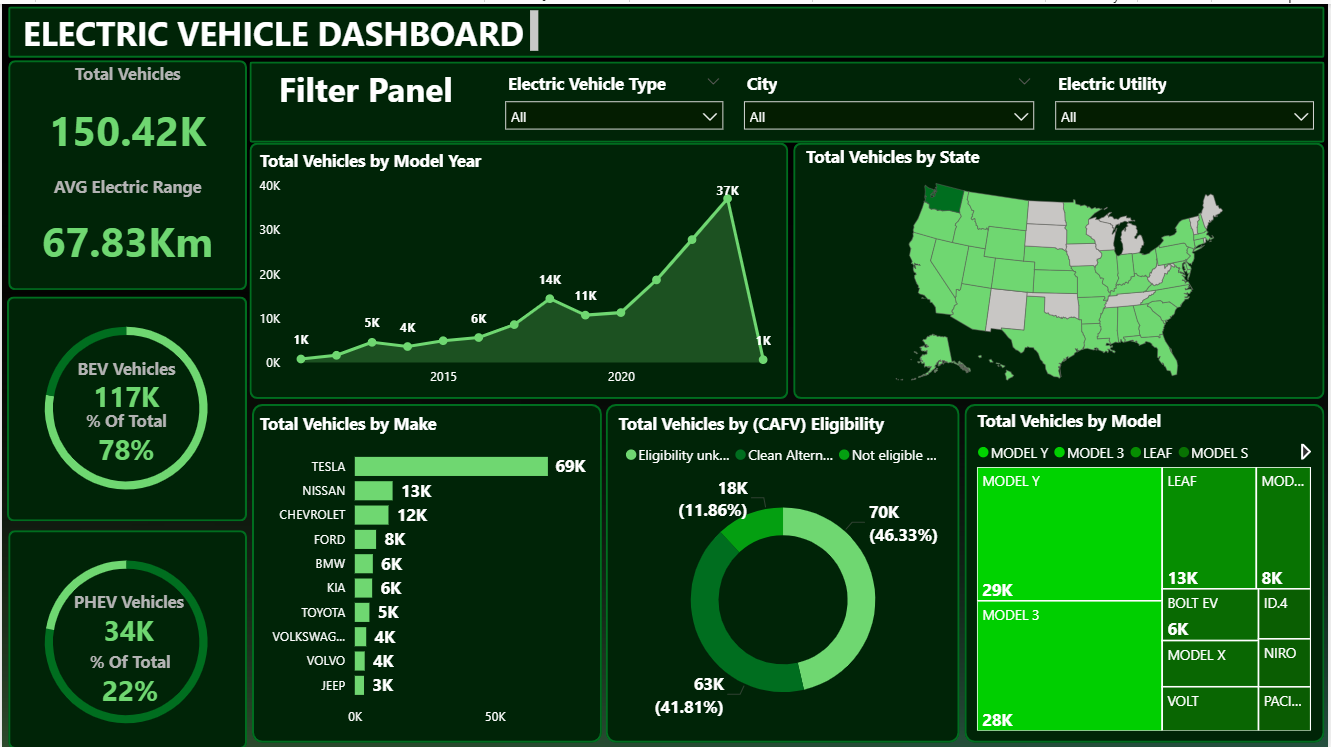

This screenshot's page, from the dashboard's own definition file:
{"tool":"powerbi","page":{"name":"Page 1","canvas":[1280,720],"ordinal":0},"visuals":[{"type":"shape","box":[238.9,133.9,520,247.3],"z":0},{"type":"shape","box":[6,2.4,1270.4,49.5],"z":1000},{"type":"textbox","box":[9.7,1.2,512.7,50.7],"z":2000},{"type":"shape","box":[6,54.3,230.4,222],"z":3000},{"type":"card","title":"Total Vehicles","fields":{"Values":["Electric_Vehicle_Population_Data.Total Vehicles"]},"box":[12.1,55.5,218.4,109.8],"z":4000},{"type":"card","title":"AVG Electric Range","fields":{"Values":["Electric_Vehicle_Population_Data.AVG Range"]},"box":[12.1,165.3,218.4,105],"z":5000},{"type":"shape","box":[4.8,282.3,231.6,217.2],"z":6000},{"type":"shape","box":[6,507.9,230.4,211.1],"z":7000},{"type":"donutChart","fields":{"Category":["Electric_Vehicle_Population_Data.Electric Vehicle Type"],"Y":["Electric_Vehicle_Population_Data.Total Vehicles"]},"box":[9.7,287.1,220.8,206.3],"z":8000},{"type":"card","title":"BEV Vehicles","fields":{"Values":["Electric_Vehicle_Population_Data.BEV Vehicles"]},"box":[59.1,340.2,121.9,57.9],"z":9000},{"type":"card","title":"% Of Total","fields":{"Values":["Electric_Vehicle_Population_Data.% of BEV"]},"box":[59.1,390.9,121.9,57.9],"z":10000},{"type":"donutChart","fields":{"Category":["Electric_Vehicle_Population_Data.Electric Vehicle Type"],"Y":["Electric_Vehicle_Population_Data.Total Vehicles"]},"box":[9.7,512.7,220.8,206.3],"z":11000},{"type":"card","title":"PHEV Vehicles","fields":{"Values":["Electric_Vehicle_Population_Data.PHEV Vehicles"]},"box":[61.5,565.8,121.9,57.9],"z":12000},{"type":"card","title":"% Of Total","fields":{"Values":["Electric_Vehicle_Population_Data.% of PHEV"]},"box":[62.7,623.7,121.9,57.9],"z":13000},{"type":"areaChart","fields":{"Y":["Electric_Vehicle_Population_Data.Total Vehicles"],"Category":["Electric_Vehicle_Population_Data.Model Year"]},"box":[243.7,139.9,509.1,237.7],"z":14000},{"type":"shape","box":[238.9,55.5,1037.5,78.4],"z":15000},{"type":"shape","box":[763.7,133.9,512.7,247.3],"z":16000},{"type":"shapeMap","fields":{"Category":["Electric_Vehicle_Population_Data.State"],"Value":["Electric_Vehicle_Population_Data.Total Vehicles"]},"box":[770.9,136.3,499.5,242.5],"z":17000},{"type":"shape","box":[241.3,386.1,337.8,326.9],"z":18000},{"type":"barChart","fields":{"Category":["Electric_Vehicle_Population_Data.Make"],"Y":["Electric_Vehicle_Population_Data.Total Vehicles"]},"box":[243.7,393.3,334.2,312.5],"z":19000},{"type":"shape","box":[582.7,386.1,341.4,326.9],"z":20000},{"type":"donutChart","title":"Total Vehicles by (CAFV) Eligibility","fields":{"Category":["Electric_Vehicle_Population_Data.Clean Alternative Fuel Vehicle (CAFV) Eligibility"],"Y":["Electric_Vehicle_Population_Data.Total Vehicles"]},"box":[589.9,393.3,328.2,312.5],"z":21000},{"type":"shape","box":[929,386.1,347.5,326.9],"z":22000},{"type":"treemap","fields":{"Group":["Electric_Vehicle_Population_Data.Model"],"Values":["Electric_Vehicle_Population_Data.Total Vehicles"]},"box":[935.9,391.1,332.1,315.6],"z":23000},{"type":"textbox","box":[243.7,55.5,214.7,78.4],"z":24000},{"type":"slicer","fields":{"Values":["Electric_Vehicle_Population_Data.City"]},"box":[705.8,60.3,300.4,67.6],"z":24001},{"type":"slicer","fields":{"Values":["Electric_Vehicle_Population_Data.Electric Utility"]},"box":[1006.2,60.3,270.2,67.6],"z":24002},{"type":"slicer","fields":{"Values":["Electric_Vehicle_Population_Data.Electric Vehicle Type"]},"box":[475.3,60.3,230.4,67.6],"z":24003}]}

Visuals, with their boxes in screenshot pixels (x1, y1, x2, y2), scaled from the page's 1280x720 canvas onto the 1331x747 screenshot:
shape: (248,139,789,395)
shape: (6,2,1327,54)
textbox: (10,1,543,54)
shape: (6,56,246,287)
"Total Vehicles" card: (13,58,240,171)
"AVG Electric Range" card: (13,171,240,280)
shape: (5,293,246,518)
shape: (6,527,246,746)
donutChart - Electric_Vehicle_Population_Data.Electric Vehicle Type x Electric_Vehicle_Population_Data.Total Vehicles: (10,298,240,512)
"BEV Vehicles" card: (61,353,188,413)
"% Of Total" card: (61,406,188,466)
donutChart - Electric_Vehicle_Population_Data.Electric Vehicle Type x Electric_Vehicle_Population_Data.Total Vehicles: (10,532,240,746)
"PHEV Vehicles" card: (64,587,191,647)
"% Of Total" card: (65,647,192,707)
areaChart - Electric_Vehicle_Population_Data.Total Vehicles x Electric_Vehicle_Population_Data.Model Year: (253,145,783,392)
shape: (248,58,1327,139)
shape: (794,139,1327,395)
shapeMap - Electric_Vehicle_Population_Data.State x Electric_Vehicle_Population_Data.Total Vehicles: (802,141,1321,393)
shape: (251,401,602,740)
barChart - Electric_Vehicle_Population_Data.Make x Electric_Vehicle_Population_Data.Total Vehicles: (253,408,601,732)
shape: (606,401,961,740)
"Total Vehicles by (CAFV) Eligibility" donutChart: (613,408,955,732)
shape: (966,401,1327,740)
treemap - Electric_Vehicle_Population_Data.Model x Electric_Vehicle_Population_Data.Total Vehicles: (973,406,1319,733)
textbox: (253,58,477,139)
slicer - Electric_Vehicle_Population_Data.City: (734,63,1046,133)
slicer - Electric_Vehicle_Population_Data.Electric Utility: (1046,63,1327,133)
slicer - Electric_Vehicle_Population_Data.Electric Vehicle Type: (494,63,734,133)
